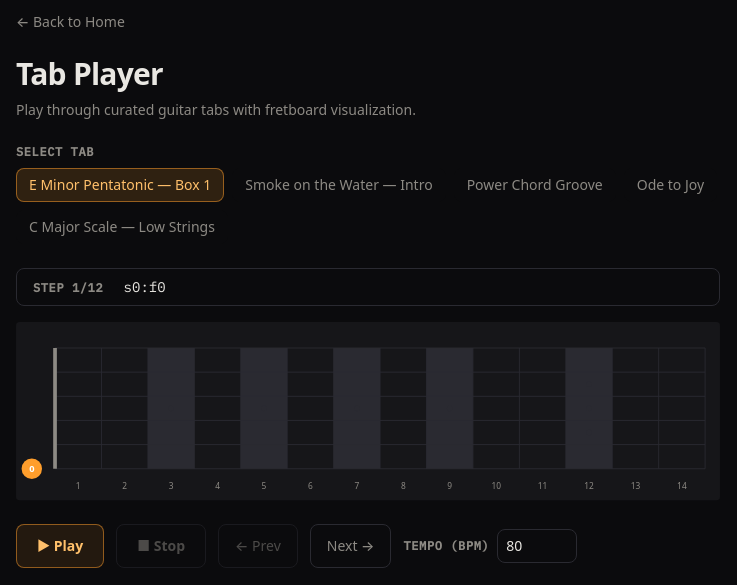
Test: TabPlayer — Group B: Stop cancels timer › Stop resets the playhead to step 0
Click the button "▶ Play". click: (60, 546)
box: x1=16 y1=524 x2=104 y2=568
Wait 1500 ms
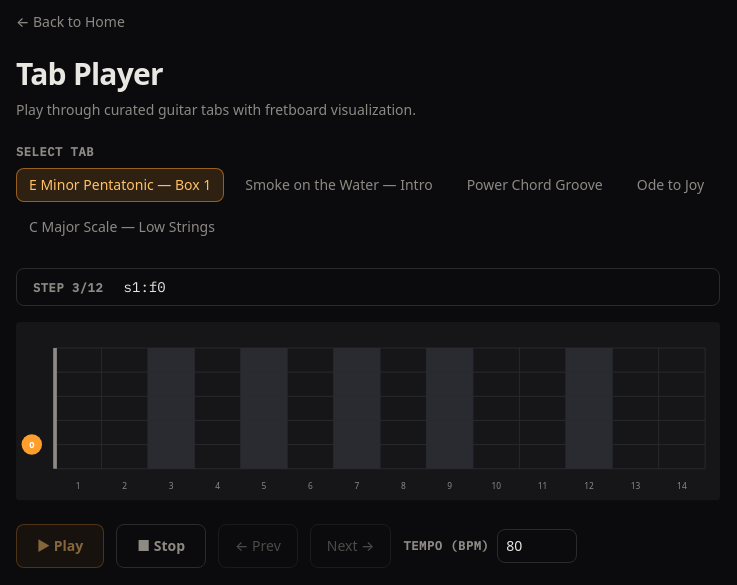
expect the text "Step 3/" is shown: met, box x1=33 y1=280 x2=103 y2=295
Click the button "■ Stop". click: (161, 546)
box: x1=116 y1=524 x2=206 y2=568
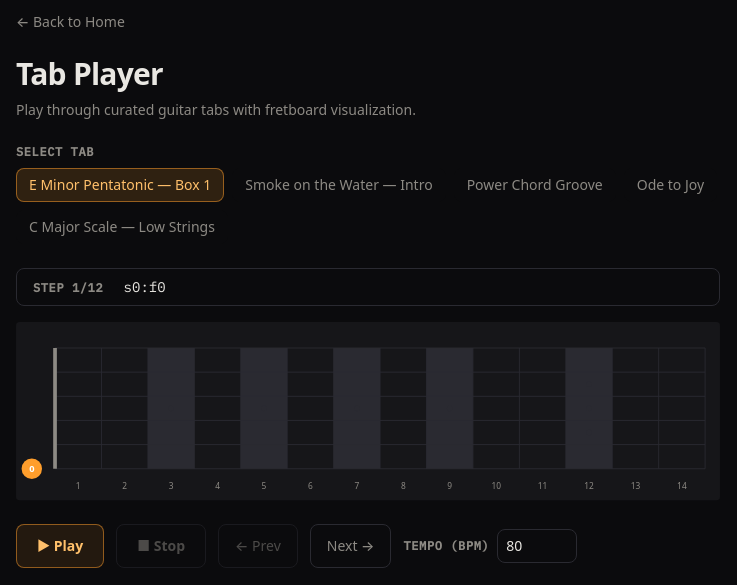
expect the text "Step 1/" is shown: met, box x1=33 y1=280 x2=103 y2=295
